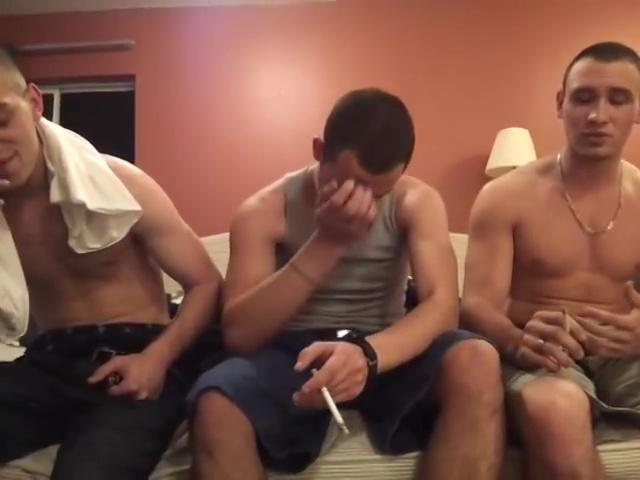cigarette: (320, 383, 352, 439), (559, 307, 572, 336)
